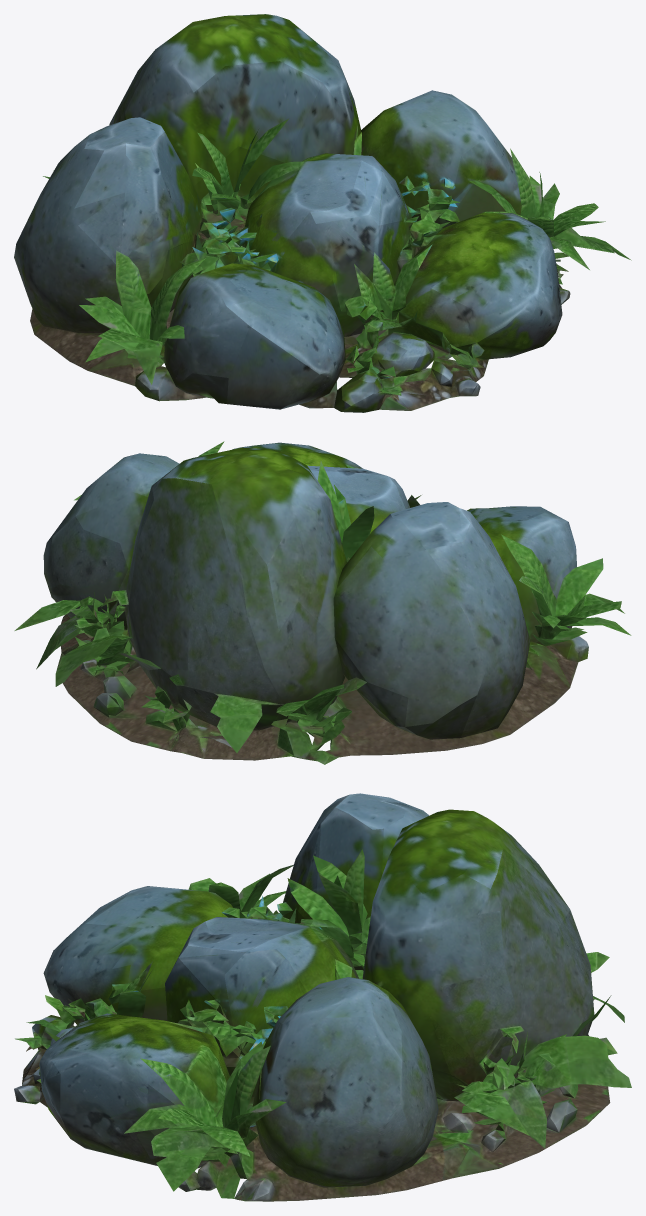
The model's file is river_boulders.glb.
The picture shows the model from 3 angles, top to bottom: view 1: azimuth 30°, elevation 25°; view 2: azimuth 150°, elevation 25°; view 3: azimuth 270°, elevation 25°; orthographic projection. The views are drawn at different scales.
Bounding box in the file's own units: 1.89 × 0.8156 × 1.77.
1 material, 1 textured.
